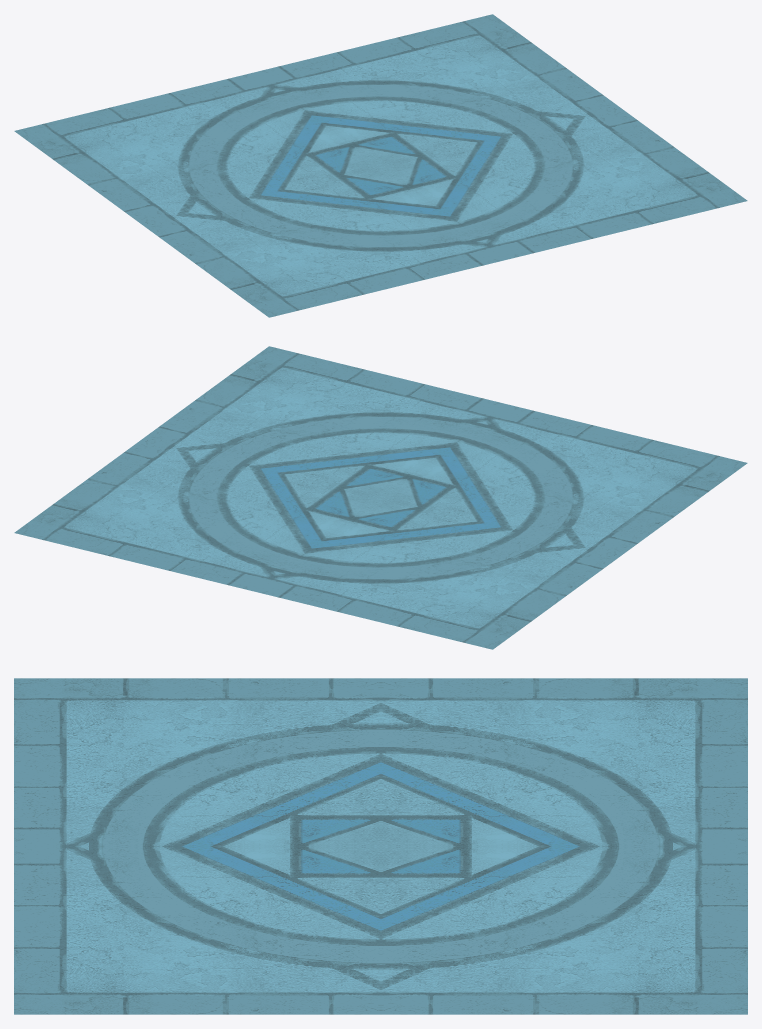
Rendered from 2_floor.fbx.
The picture shows the model from 3 angles, top to bottom: view 1: azimuth 30°, elevation 25°; view 2: azimuth 150°, elevation 25°; view 3: azimuth 270°, elevation 25°; orthographic projection. The views are drawn at different scales.
Visible parts, largest first — view 1: 2_floor; view 2: 2_floor; view 3: 2_floor.
Boxes of the visible parts, bbox=[...] form: 2_floor: bbox=[14, 14, 747, 317]; 2_floor: bbox=[14, 346, 747, 649]; 2_floor: bbox=[14, 678, 747, 1014].
Size of the model in its own units: 354 by 326 by 5.34e-05.
1 material, 1 textured.
